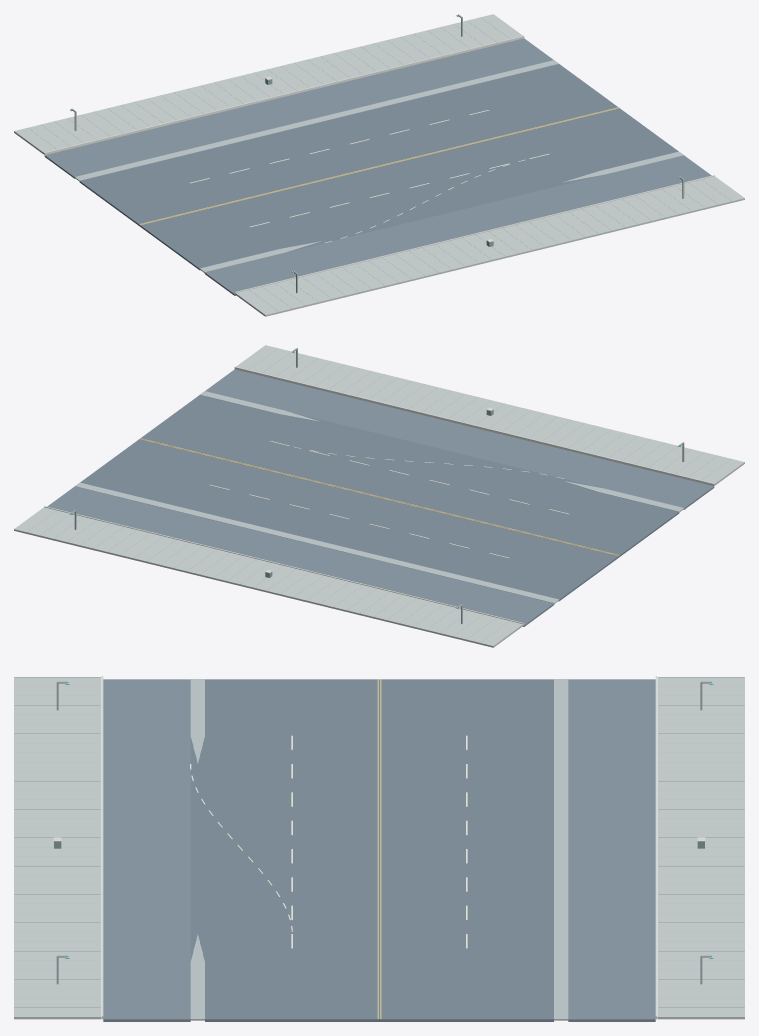
Rendered from city-w78-s78.glb.
3 renders of one model, top to bottom at view 1: azimuth 30°, elevation 25°; view 2: azimuth 150°, elevation 25°; view 3: azimuth 270°, elevation 25°, orthographic. The views are drawn at different scales.
Parts seen in each view (by area): view 1: Main_road, Sidewalk, Frontage_roads, Medians, Curbs, Paving_joints, Merge_surface, Center_lines; view 2: Main_road, Sidewalk, Frontage_roads, Medians, Curbs, Paving_joints, Merge_surface, Center_lines; view 3: Main_road, Frontage_roads, Sidewalk, Medians, Paving_joints, Merge_surface, Curbs, Center_lines.
Boxes of the visible parts, <box> form: Main_road: <box>79,64,678,270</box>; Sidewalk: <box>14,14,744,316</box>; Frontage_roads: <box>44,38,711,295</box>; Medians: <box>74,60,683,272</box>; Curbs: <box>44,35,714,294</box>; Paving_joints: <box>14,17,731,314</box>; Merge_surface: <box>285,173,601,252</box>; Center_lines: <box>139,107,619,225</box>; Main_road: <box>80,395,679,601</box>; Sidewalk: <box>14,345,744,647</box>; Frontage_roads: <box>47,369,714,626</box>; Medians: <box>75,391,684,603</box>; Curbs: <box>44,366,714,625</box>; Paving_joints: <box>27,348,744,645</box>; Merge_surface: <box>281,412,597,491</box>; Center_lines: <box>139,438,619,556</box>; Main_road: <box>205,679,553,1021</box>; Frontage_roads: <box>103,679,655,1021</box>; Sidewalk: <box>14,677,744,1019</box>; Medians: <box>190,679,568,1020</box>; Paving_joints: <box>14,677,744,1007</box>; Merge_surface: <box>190,737,204,960</box>; Curbs: <box>101,676,657,1019</box>; Center_lines: <box>377,679,381,1019</box>.
Bounding box in the file's own units: 72 × 3.26 × 65.4.
